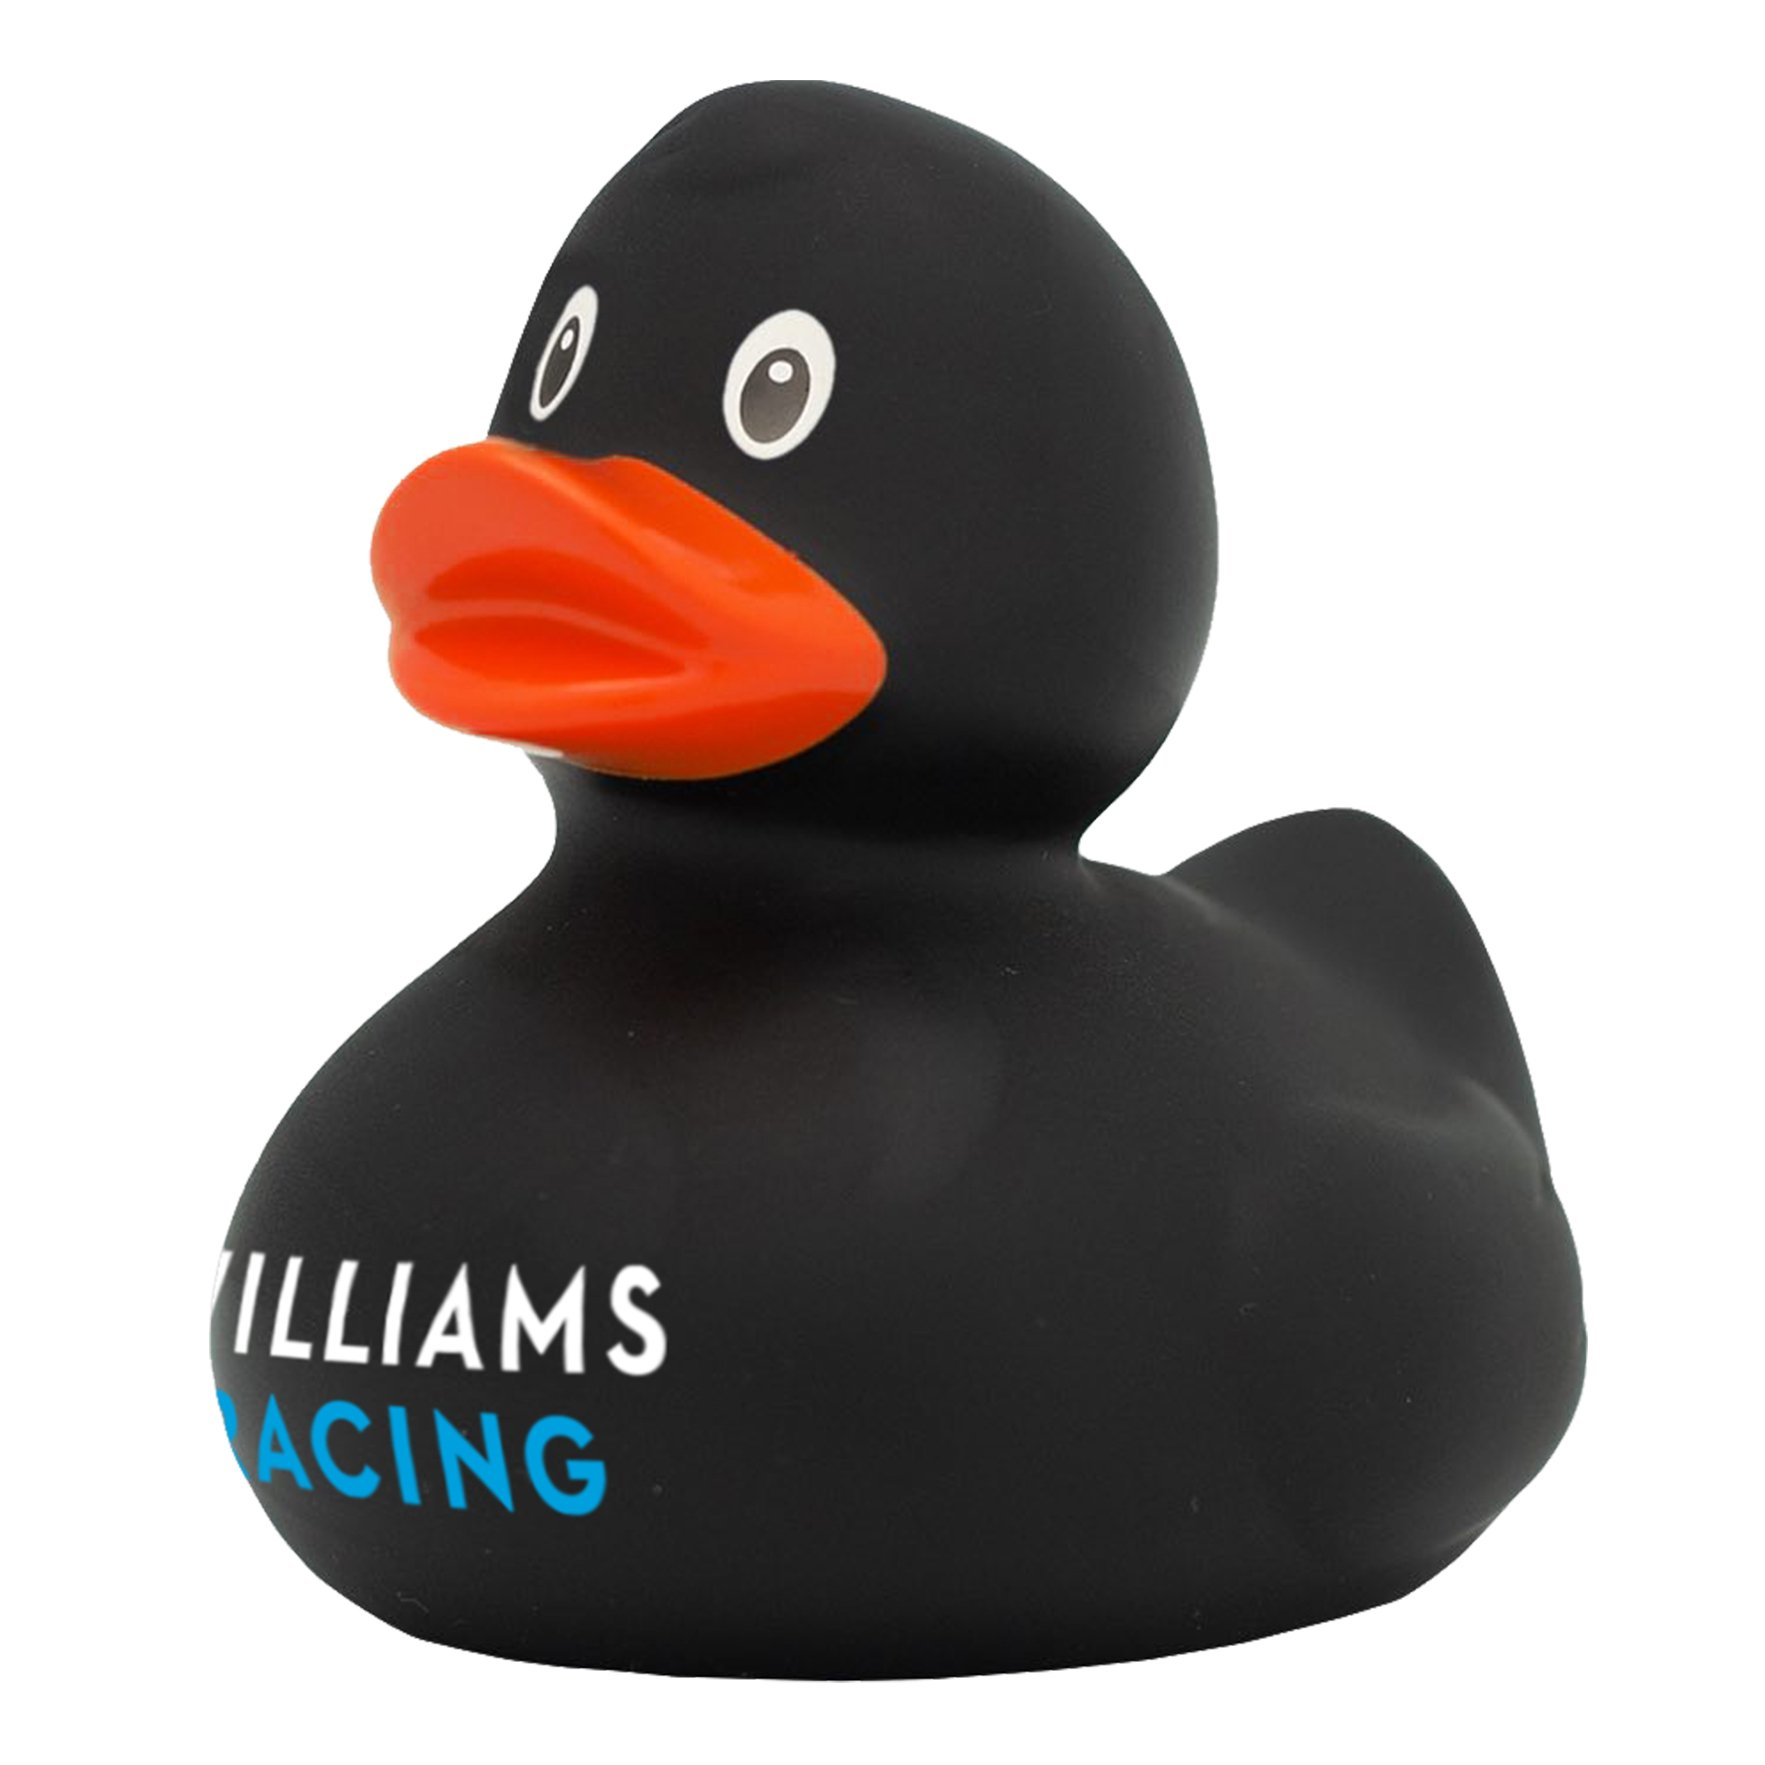Duck: (191, 63, 1592, 1699)
